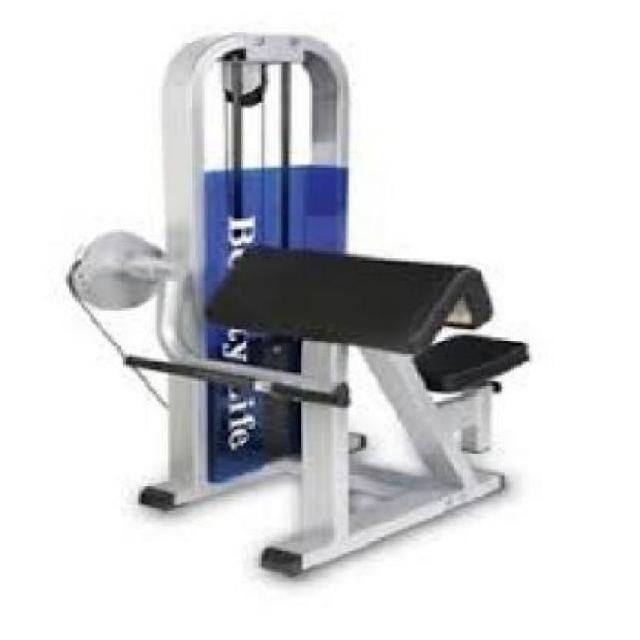arm curl machine: (62, 28, 529, 578)
